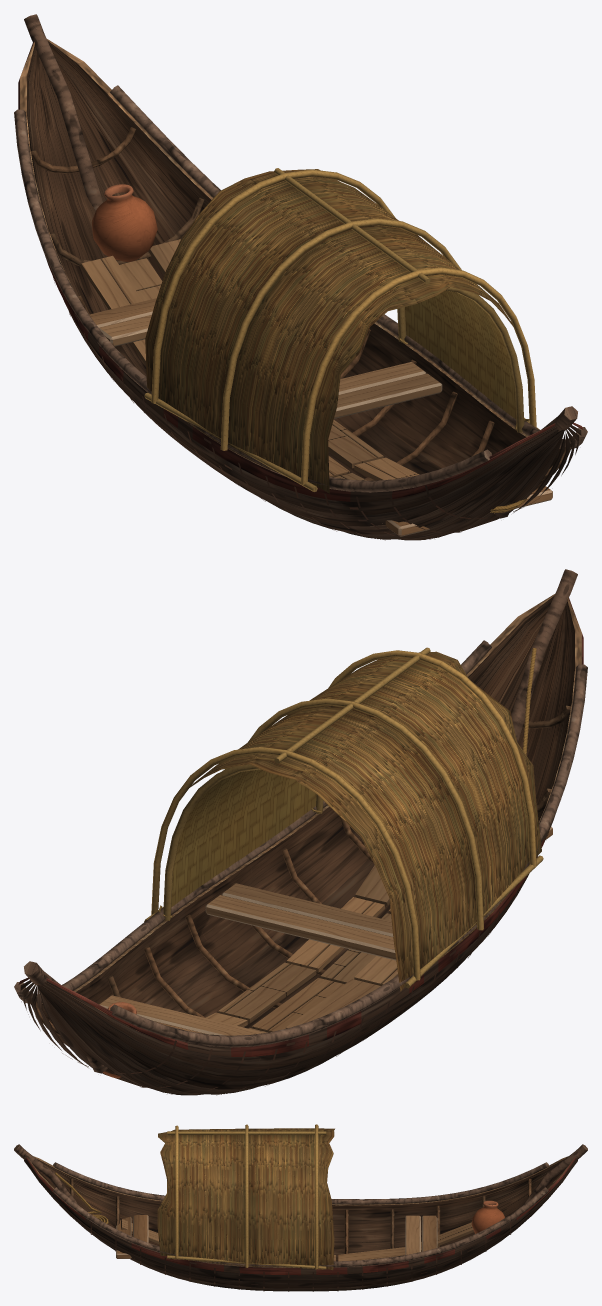
Rendered from nouka.glb.
3 renders of one model, top to bottom at view 1: azimuth 30°, elevation 25°; view 2: azimuth 150°, elevation 25°; view 3: azimuth 270°, elevation 25°, orthographic. The views are drawn at different scales.
Visible parts, largest first — view 1: hull, chhoi, benches; view 2: hull, chhoi, benches; view 3: hull, chhoi, benches.
Part boxes in pixels (x1,y1,x2,y2): hull: (14, 14, 587, 540); chhoi: (144, 168, 539, 493); benches: (89, 298, 552, 536); hull: (14, 569, 587, 1095); chhoi: (144, 647, 543, 991); benches: (95, 826, 552, 1035); hull: (14, 1144, 587, 1291); chhoi: (157, 1124, 334, 1270); benches: (116, 1215, 437, 1258).
Bounding box in the file's own units: 1.35 × 1.37 × 4.76.
8 materials, 7 textured.
